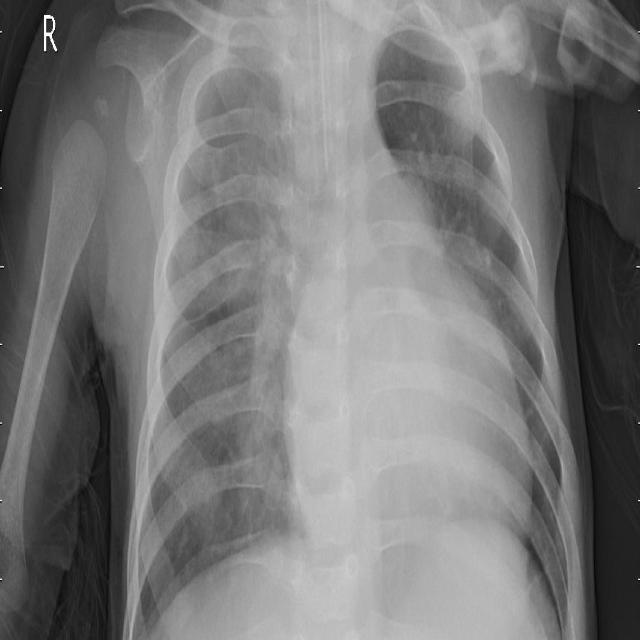low-pneumonia: (240, 105, 298, 503), (395, 116, 494, 280)
